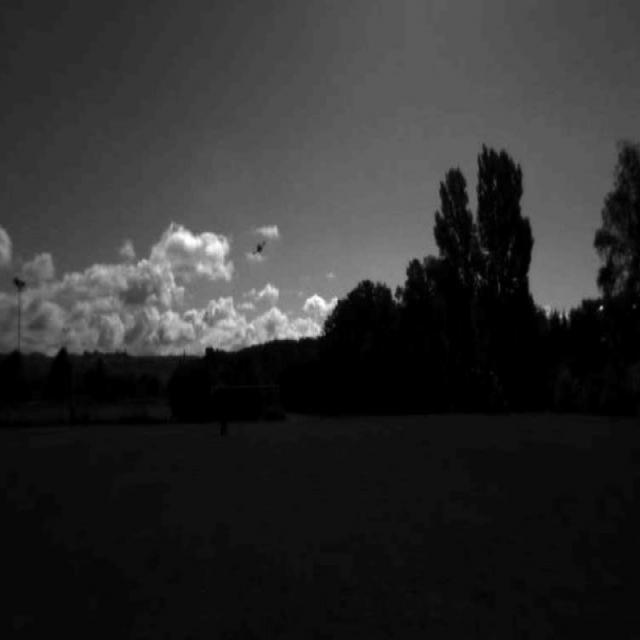drone: (250, 234, 267, 256)
